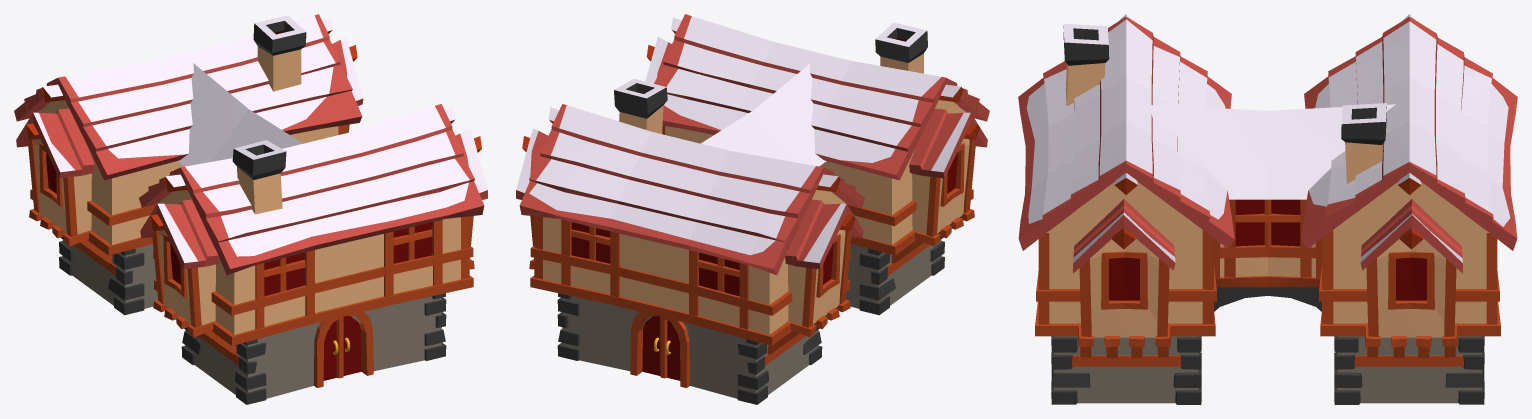
The model's file is winter_castle_house4.glb.
3 views of the same model, side by side, from view 1: azimuth 30°, elevation 25°; view 2: azimuth 150°, elevation 25°; view 3: azimuth 270°, elevation 25° (orthographic). The views are drawn at different scales.
Parts seen in each view (by area): view 1: House4_Medieval_0; view 2: House4_Medieval_0; view 3: House4_Medieval_0.
Boxes of the visible parts, x1,y1,x2,y2 form: House4_Medieval_0: (14, 14, 487, 404); House4_Medieval_0: (516, 14, 989, 404); House4_Medieval_0: (1018, 14, 1517, 404).
Bounding box in the file's own units: 6.73 × 4.65 × 7.64.
1 material, 1 textured.
